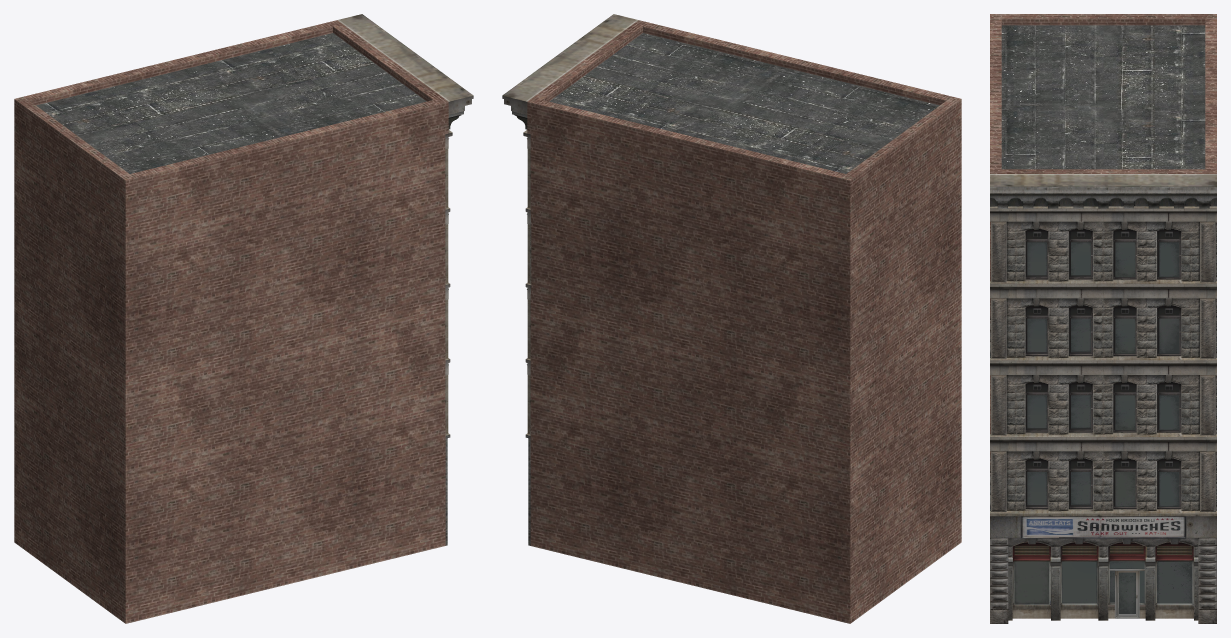
The model's file is building_2.fbx.
3 renders of one model, left to right at view 1: azimuth 30°, elevation 25°; view 2: azimuth 150°, elevation 25°; view 3: azimuth 270°, elevation 25°, orthographic.
Parts seen in each view (by area): view 1: Cylinder.001; view 2: Cylinder.001; view 3: Cylinder.001.
Part boxes in pixels (x1,y1,x2,y2): Cylinder.001: (14,14,473,623); Cylinder.001: (502,14,961,623); Cylinder.001: (990,14,1216,623).
Size of the model in its own units: 9513 by 11580 by 5281.
